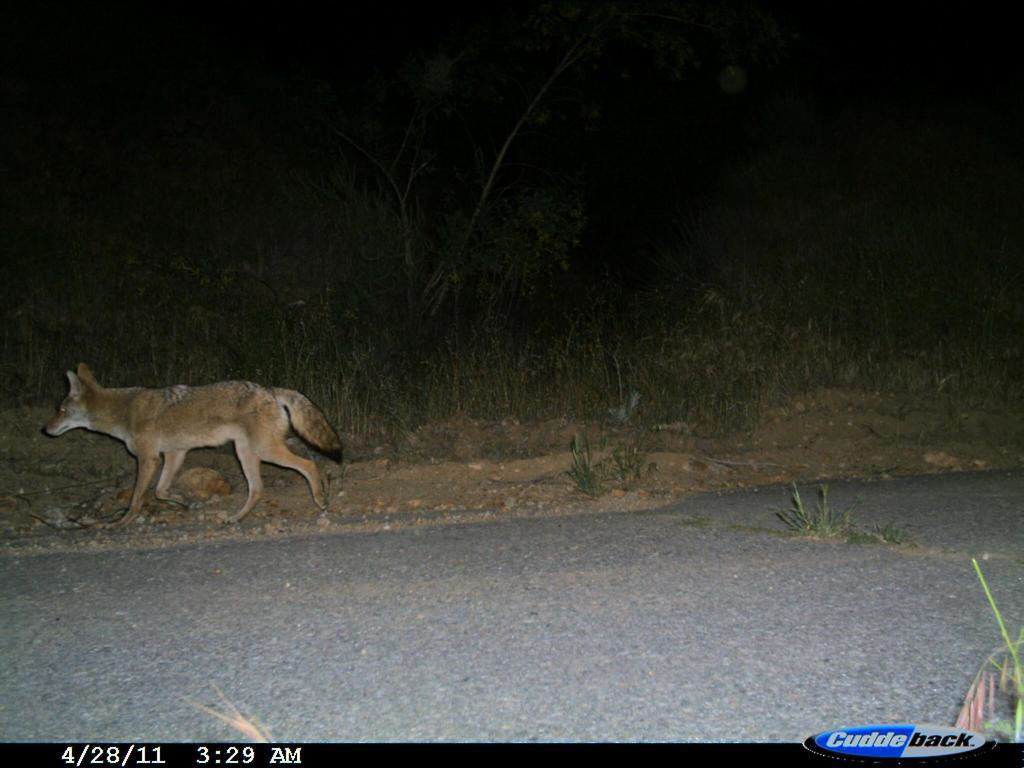coyote: (44, 355, 356, 529)
